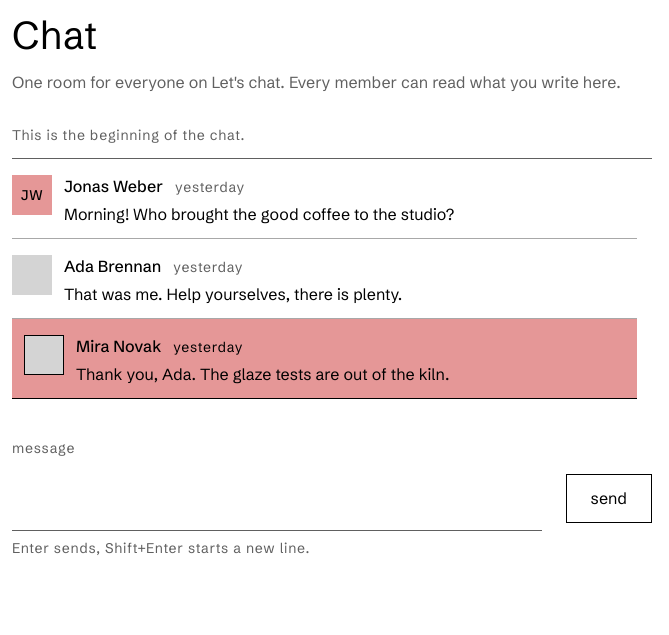
ChatPage › F-79: a rejected message is marked "Not sent", keeps the draft and can be retried without a duplicate
Later steps or results of the test are not shown.
Step 1. Type "Studio closes at six today." into the text box labelled "message" → (277, 499), box [12,467,542,531]
Then press Enter
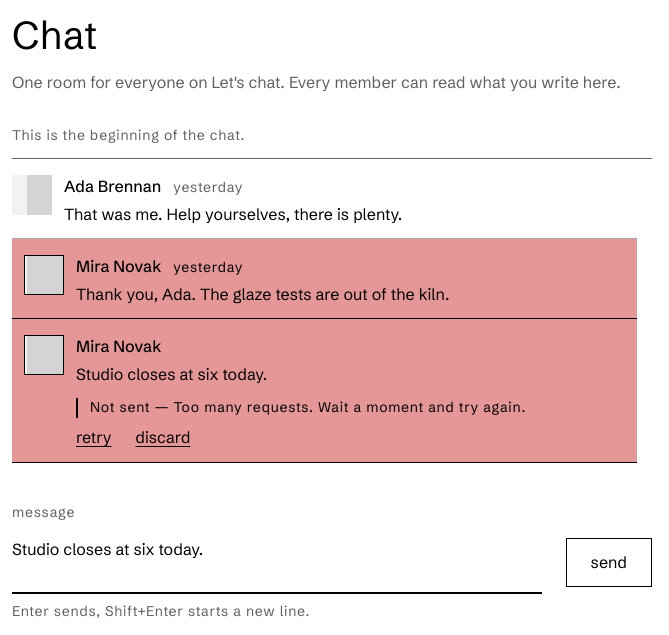
Now the text "Not sent — Too many requests. Wait a moment and try again." is shown, box [76,398,526,418]
Step 2. Click the button "retry" → (94, 438), box [76,426,112,450]
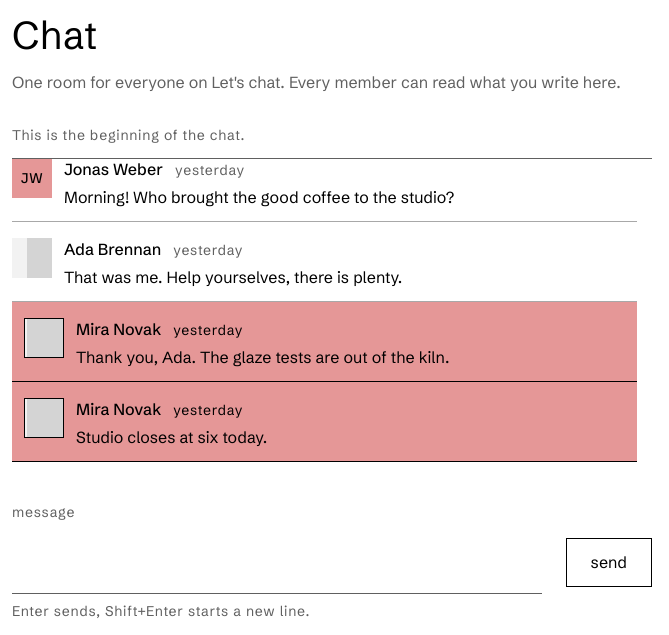
Now the text "Studio closes at six today." is shown once, box [76,427,267,447]
Now the text "Not sent" is gone
Now the text box labelled "message" is empty, box [12,530,542,594]
